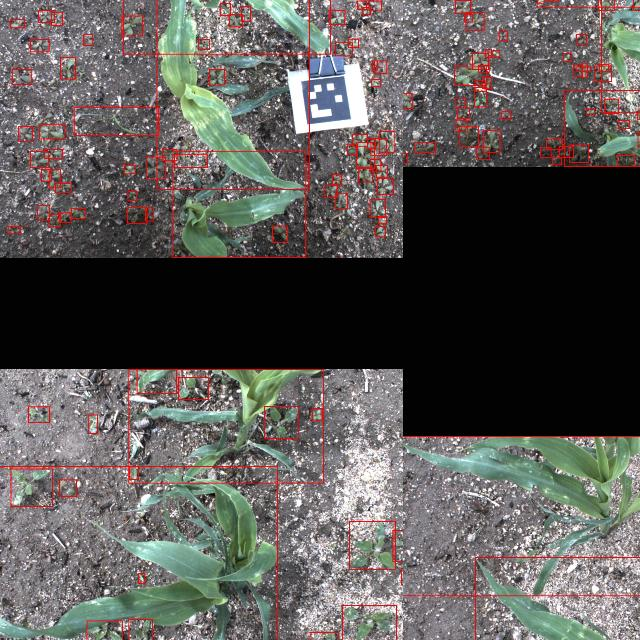crop: (0, 465, 277, 640), (403, 435, 640, 595), (157, 0, 309, 189), (129, 368, 323, 482), (172, 150, 306, 258), (475, 556, 640, 640), (123, 0, 330, 53), (563, 90, 640, 166), (602, 0, 640, 112), (137, 368, 177, 392)
weed: (74, 106, 158, 136), (349, 521, 395, 569), (342, 604, 396, 640), (11, 468, 52, 506), (264, 404, 298, 438), (87, 620, 123, 640), (178, 376, 208, 398), (454, 65, 486, 85), (129, 619, 153, 640), (356, 142, 374, 168), (175, 154, 208, 168), (146, 157, 166, 179), (121, 15, 142, 35), (459, 126, 478, 146), (484, 130, 500, 152), (28, 406, 50, 422), (40, 124, 64, 138), (466, 12, 484, 30), (570, 145, 588, 163), (12, 68, 32, 84), (60, 58, 76, 78), (127, 207, 147, 223), (370, 198, 386, 218), (393, 530, 403, 561), (380, 130, 394, 152), (30, 151, 48, 167), (594, 65, 612, 81), (60, 478, 76, 496), (272, 226, 288, 242), (377, 178, 393, 194), (370, 138, 386, 154), (472, 53, 488, 69), (30, 39, 50, 51), (474, 87, 486, 107), (329, 10, 345, 24), (336, 42, 352, 56), (358, 166, 372, 182), (604, 98, 618, 114), (310, 632, 338, 640), (414, 142, 436, 152), (210, 70, 224, 84), (18, 126, 32, 140), (38, 9, 54, 21), (38, 204, 50, 220), (162, 148, 178, 160), (352, 134, 368, 146), (558, 146, 574, 158), (44, 148, 62, 158), (50, 169, 60, 187), (455, 0, 470, 12), (618, 156, 634, 167), (89, 413, 98, 432), (229, 14, 243, 26), (374, 60, 386, 74), (335, 194, 347, 208), (324, 185, 338, 197), (55, 182, 71, 192), (546, 139, 562, 149), (476, 147, 489, 159), (599, 0, 615, 9), (456, 108, 469, 119), (71, 208, 85, 218), (220, 2, 230, 16), (403, 93, 412, 108), (377, 165, 388, 177), (52, 12, 62, 24), (41, 169, 51, 181), (50, 214, 60, 226), (59, 212, 71, 222), (198, 39, 210, 49), (369, 0, 381, 10), (370, 159, 380, 171), (482, 77, 492, 89), (475, 80, 485, 92), (456, 120, 468, 130), (572, 64, 582, 76), (312, 408, 322, 420), (10, 19, 24, 27), (242, 6, 250, 20), (375, 226, 385, 237), (332, 174, 342, 184), (347, 144, 357, 154), (456, 98, 466, 108), (541, 147, 551, 157), (576, 34, 586, 44), (145, 208, 153, 220), (8, 226, 20, 234), (618, 120, 630, 128), (130, 466, 138, 478), (124, 164, 134, 173), (576, 66, 590, 72), (582, 63, 588, 77), (84, 34, 92, 44), (128, 190, 136, 200), (348, 38, 358, 46), (367, 138, 375, 148), (499, 31, 507, 41), (479, 64, 489, 72), (552, 157, 562, 165), (357, 0, 366, 8), (362, 6, 371, 14), (502, 111, 511, 119), (633, 0, 640, 10), (378, 216, 386, 224), (465, 13, 473, 21), (563, 53, 571, 61), (600, 63, 608, 71), (372, 78, 381, 85), (372, 60, 378, 70), (139, 573, 145, 583), (485, 49, 491, 57), (586, 109, 594, 115), (637, 132, 640, 146), (403, 153, 407, 163), (493, 50, 499, 56), (637, 111, 640, 119), (537, 0, 544, 2)
